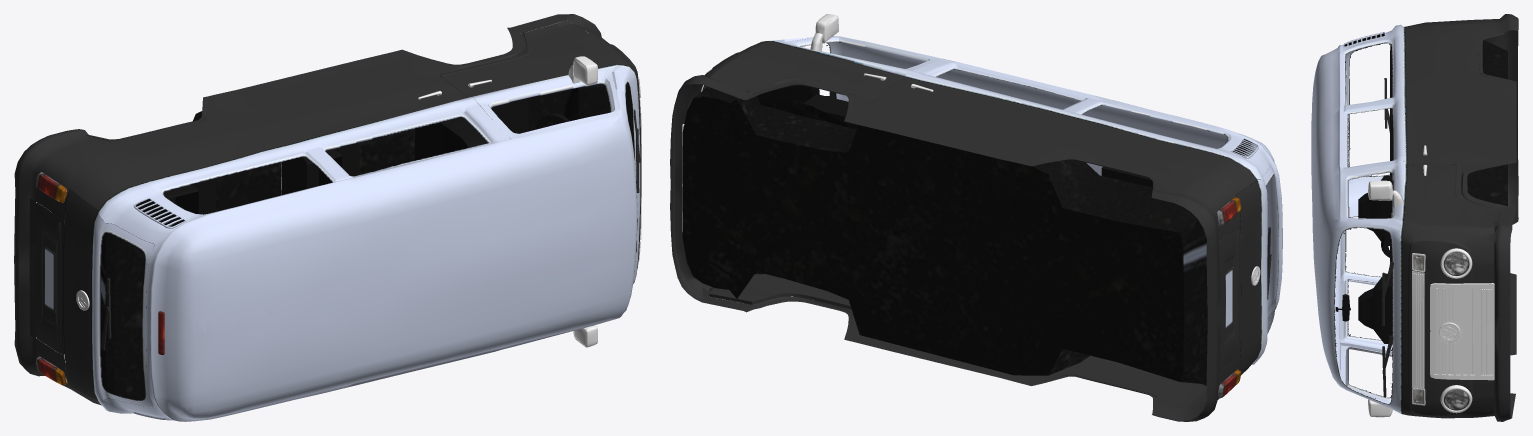
Rendered from van_chassis_darkgrey.obj.
3 views of the same model, side by side, from view 1: azimuth 30°, elevation 25°; view 2: azimuth 150°, elevation 25°; view 3: azimuth 270°, elevation 25° (orthographic). The views are drawn at different scales.
Visible parts, largest first — view 1: Volks_Van_Chassis_0416; view 2: Volks_Van_Chassis_0416; view 3: Volks_Van_Chassis_0416.
Part boxes in pixels (box(x1,y1,x2,y2)): Volks_Van_Chassis_0416: box(14, 14, 641, 421); Volks_Van_Chassis_0416: box(670, 14, 1282, 421); Volks_Van_Chassis_0416: box(1311, 14, 1518, 421).
Size of the model in its own units: 4.8 by 2.22 by 1.79.
Materials: 2 (2 with a texture image).
